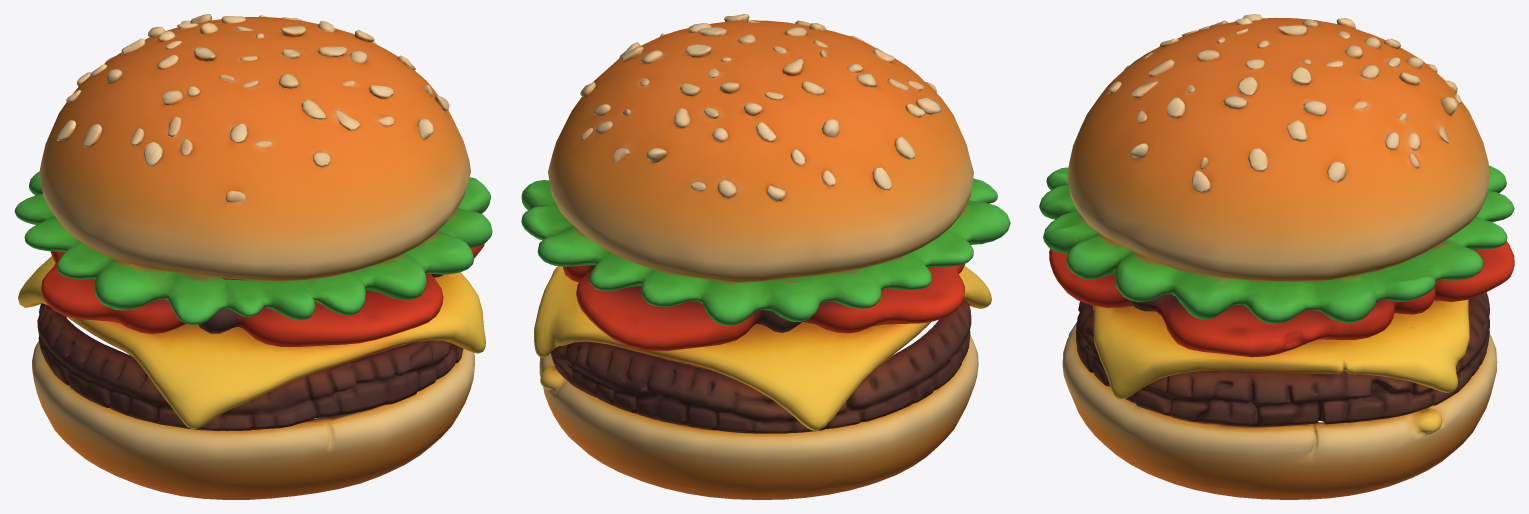
Rendered from burger.glb.
3 views of the same model, side by side, from view 1: azimuth 30°, elevation 25°; view 2: azimuth 150°, elevation 25°; view 3: azimuth 270°, elevation 25° (orthographic).
Parts seen in each view (by area): view 1: tripo_node_1b2a9acb-7ae5-4f1e-b42d-4106c45d54c7; view 2: tripo_node_1b2a9acb-7ae5-4f1e-b42d-4106c45d54c7; view 3: tripo_node_1b2a9acb-7ae5-4f1e-b42d-4106c45d54c7.
Part boxes in pixels (left/top/right/bottom): tripo_node_1b2a9acb-7ae5-4f1e-b42d-4106c45d54c7: left=14, top=14, right=492, bottom=499; tripo_node_1b2a9acb-7ae5-4f1e-b42d-4106c45d54c7: left=521, top=14, right=1010, bottom=499; tripo_node_1b2a9acb-7ae5-4f1e-b42d-4106c45d54c7: left=1039, top=14, right=1514, bottom=499.
Bounding box in the file's own units: 0.9976 × 0.8931 × 0.9995.
Materials: 1 (1 with a texture image).
